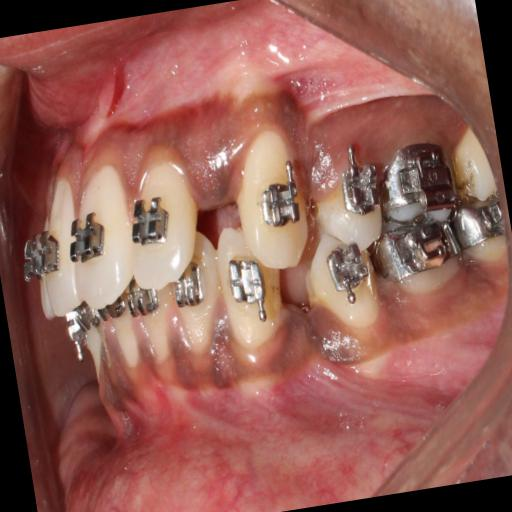correct_brace: (312, 162, 389, 258), (252, 168, 306, 238), (125, 192, 176, 250), (66, 208, 111, 268)
incorrect_brace: (118, 154, 207, 298), (332, 158, 384, 220)
